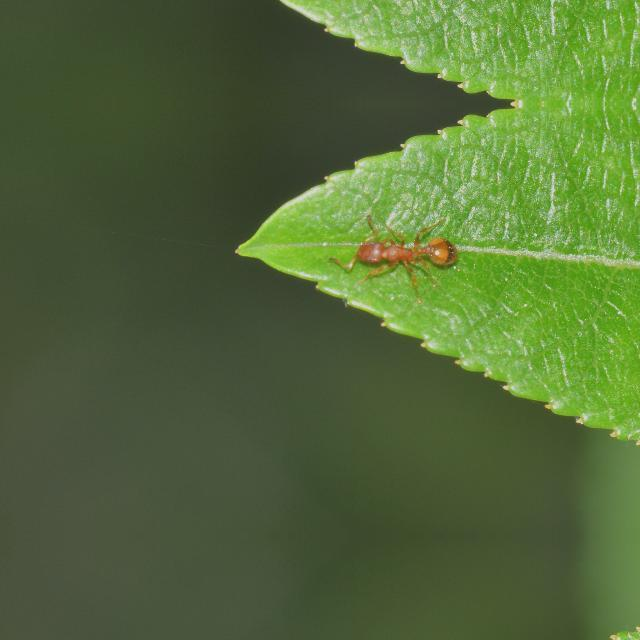Temnothorax: (329, 210, 475, 288)
